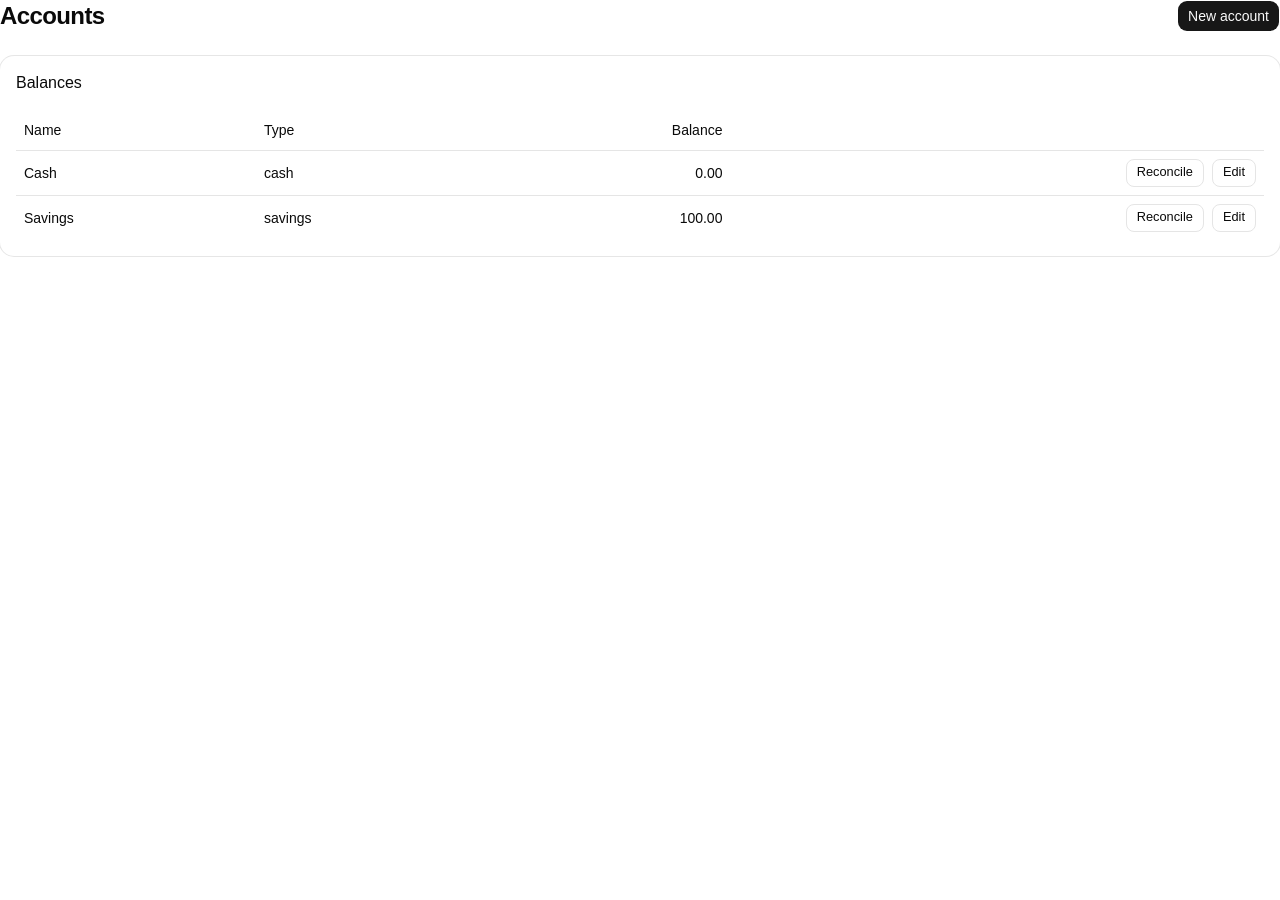
Scenario: ReconcileDialog › opens from every account row regardless of type
Expected: the text "Cash" is shown, [16,150,256,195]
Step 1. Click the button "Reconcile" in the row of "100.00" → (1165, 218), box [1126,204,1204,232]
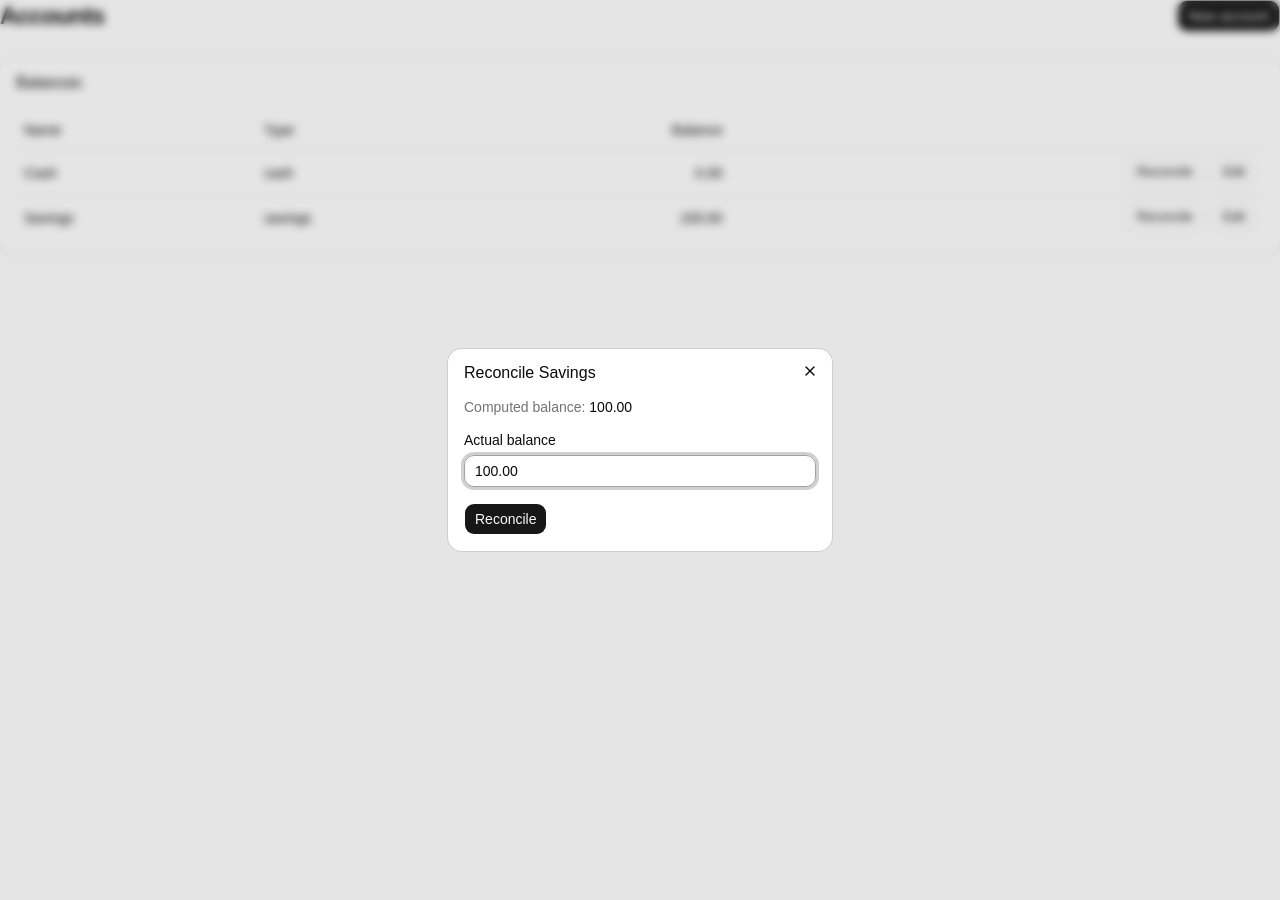
Now the dialog "Reconcile Savings" is shown, box [448,349,832,551]
